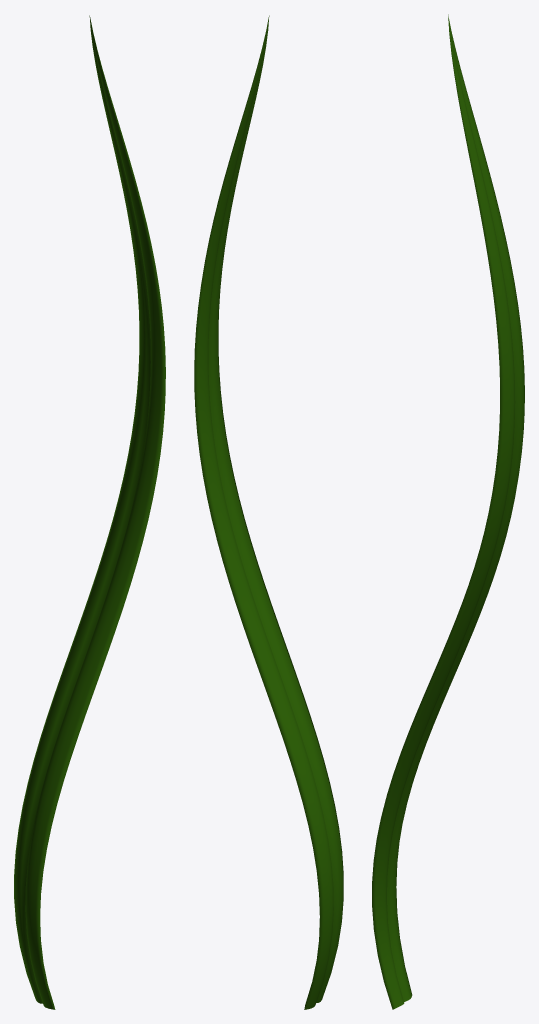
The picture shows the model from 3 angles, left to right: view 1: azimuth 30°, elevation 25°; view 2: azimuth 150°, elevation 25°; view 3: azimuth 330°, elevation 25°; orthographic projection. The views are drawn at different scales.
Parts seen in each view (by area): view 1: ТраекторияNurbs.018; view 2: ТраекторияNurbs.018; view 3: ТраекторияNurbs.018.
Boxes of the visible parts, x1=… form: ТраекторияNurbs.018: x1=14, y1=15, x2=165, y2=1009; ТраекторияNurbs.018: x1=194, y1=15, x2=343, y2=1009; ТраекторияNurbs.018: x1=372, y1=14, x2=524, y2=1009.
Bounding box in the file's own units: 45.74 × 315 × 17.43.
